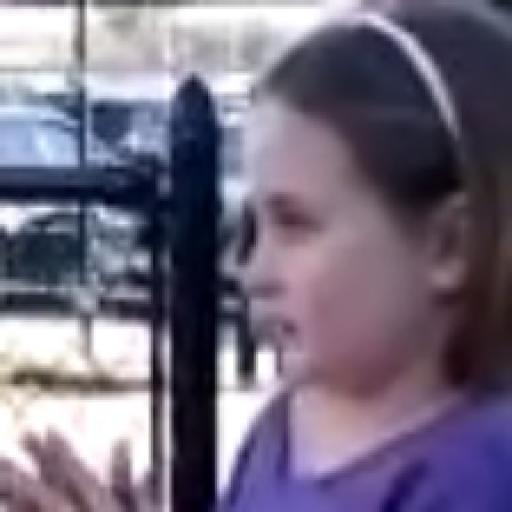Autism: (204, 24, 512, 463)
